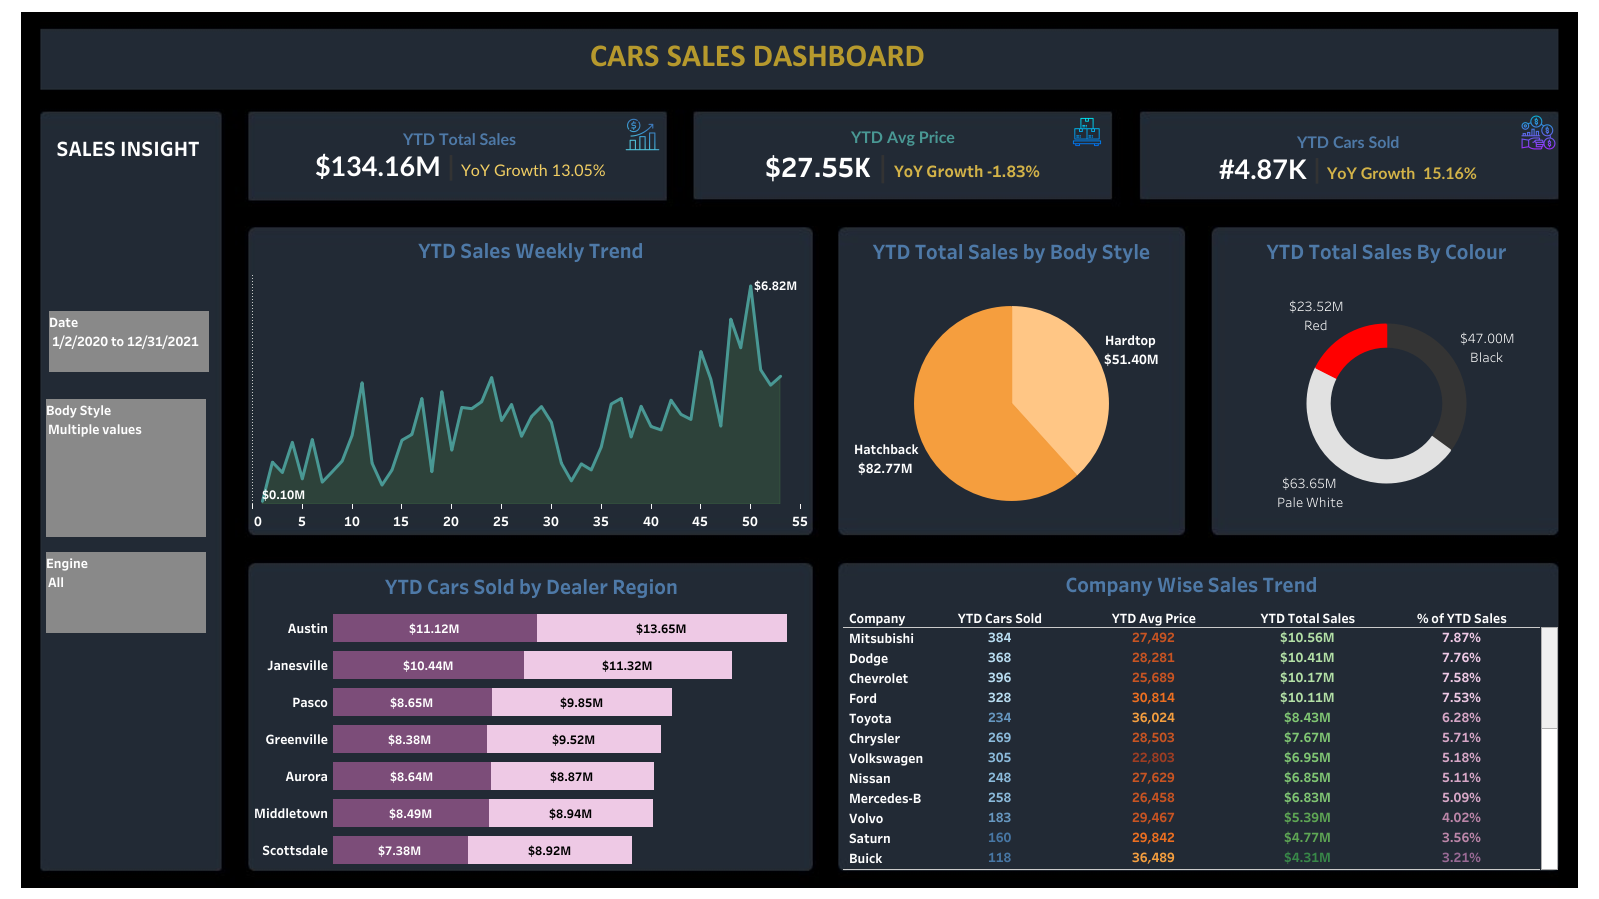

Layout of this report page (visuals, bound fields, positions):
{"tool":"tableau","page":{"name":"Dashboard 1","canvas":[1600,900],"ordinal":0},"visuals":[{"type":"image","param":"Image/Car Sales Background.jpg","box":[8,8,1584,884]},{"type":"text","box":[587,38,341,40]},{"type":"worksheet","title":"YTD Total Sales","mark":"Automatic","box":[253,113,415,86]},{"type":"image","param":"Image/Cars Sold Icon.png","box":[1521,115,35,35]},{"type":"image","param":"Image/Sales Icon.png","box":[622,116,41,37]},{"type":"worksheet","title":"YTD Avg Price","mark":"Automatic","box":[697,117,412,79]},{"type":"image","param":"Image/Avg Price Icon.png","box":[1065,117,45,30]},{"type":"worksheet","title":"YTD Cars Sold","mark":"Automatic","box":[1142,117,413,83]},{"type":"text","box":[54,133,149,30]},{"type":"worksheet","title":"YTD Sales Weekly Trend","mark":"Area","rows":["Calculation_1055553834938376","Calculation_1055553834938376"],"cols":["Date"],"box":[252,230,558,304]},{"type":"worksheet","title":"YTD Total Sales by Body Style","mark":"Pie","box":[840,231,343,302]},{"type":"worksheet","title":"YTD Total Sales By Colour","mark":"Pie","rows":["Calculation_309341022286397441","Calculation_309341022286397441"],"box":[1211,231,351,302]},{"type":"filter","title":"YTD Sales Weekly Trend","param":"[federated.0wne8hm0z3b8pl147hir00bawx93].[none:Date:qk]","box":[49,311,160,61]},{"type":"filter","title":"YTD Sales Weekly Trend","param":"[federated.0wne8hm0z3b8pl147hir00bawx93].[none:Body Style:nk]","box":[46,399,160,138]},{"type":"filter","title":"YTD Sales Weekly Trend","param":"[federated.0wne8hm0z3b8pl147hir00bawx93].[none:Engine:nk]","box":[46,552,160,81]},{"type":"worksheet","title":"Company Wise Sales Trend","mark":"Automatic","rows":["Company"],"box":[843,564,715,306]},{"type":"worksheet","title":"YTD Cars Sold by Dealer Region","mark":"Automatic","rows":["Dealer_Region"],"cols":["Calculation_1055553834938376"],"box":[253,566,557,302]}]}

Visuals, with their boxes in screenshot pixels (x1, y1, x2, y2), scaled from the page's 1600x900 canvas onto the 1599x899 screenshot:
image: 8:8:1591:891
text: 587:38:927:78
"YTD Total Sales" worksheet: 253:113:668:199
image: 1520:115:1555:150
image: 622:116:663:153
"YTD Avg Price" worksheet: 697:117:1108:196
image: 1064:117:1109:147
"YTD Cars Sold" worksheet: 1141:117:1554:200
text: 54:133:203:163
"YTD Sales Weekly Trend" worksheet (Area marks): 252:230:809:533
"YTD Total Sales by Body Style" worksheet (Pie marks): 839:231:1182:532
"YTD Total Sales By Colour" worksheet (Pie marks): 1210:231:1561:532
"YTD Sales Weekly Trend" filter: 49:311:209:372
"YTD Sales Weekly Trend" filter: 46:399:206:536
"YTD Sales Weekly Trend" filter: 46:551:206:632
"Company Wise Sales Trend" worksheet: 842:563:1557:869
"YTD Cars Sold by Dealer Region" worksheet: 253:565:809:867
